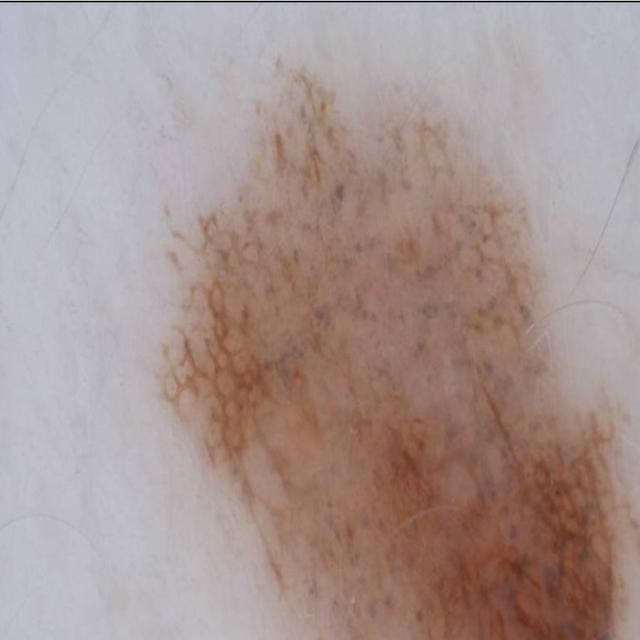Melanoma: (171, 57, 638, 640)
